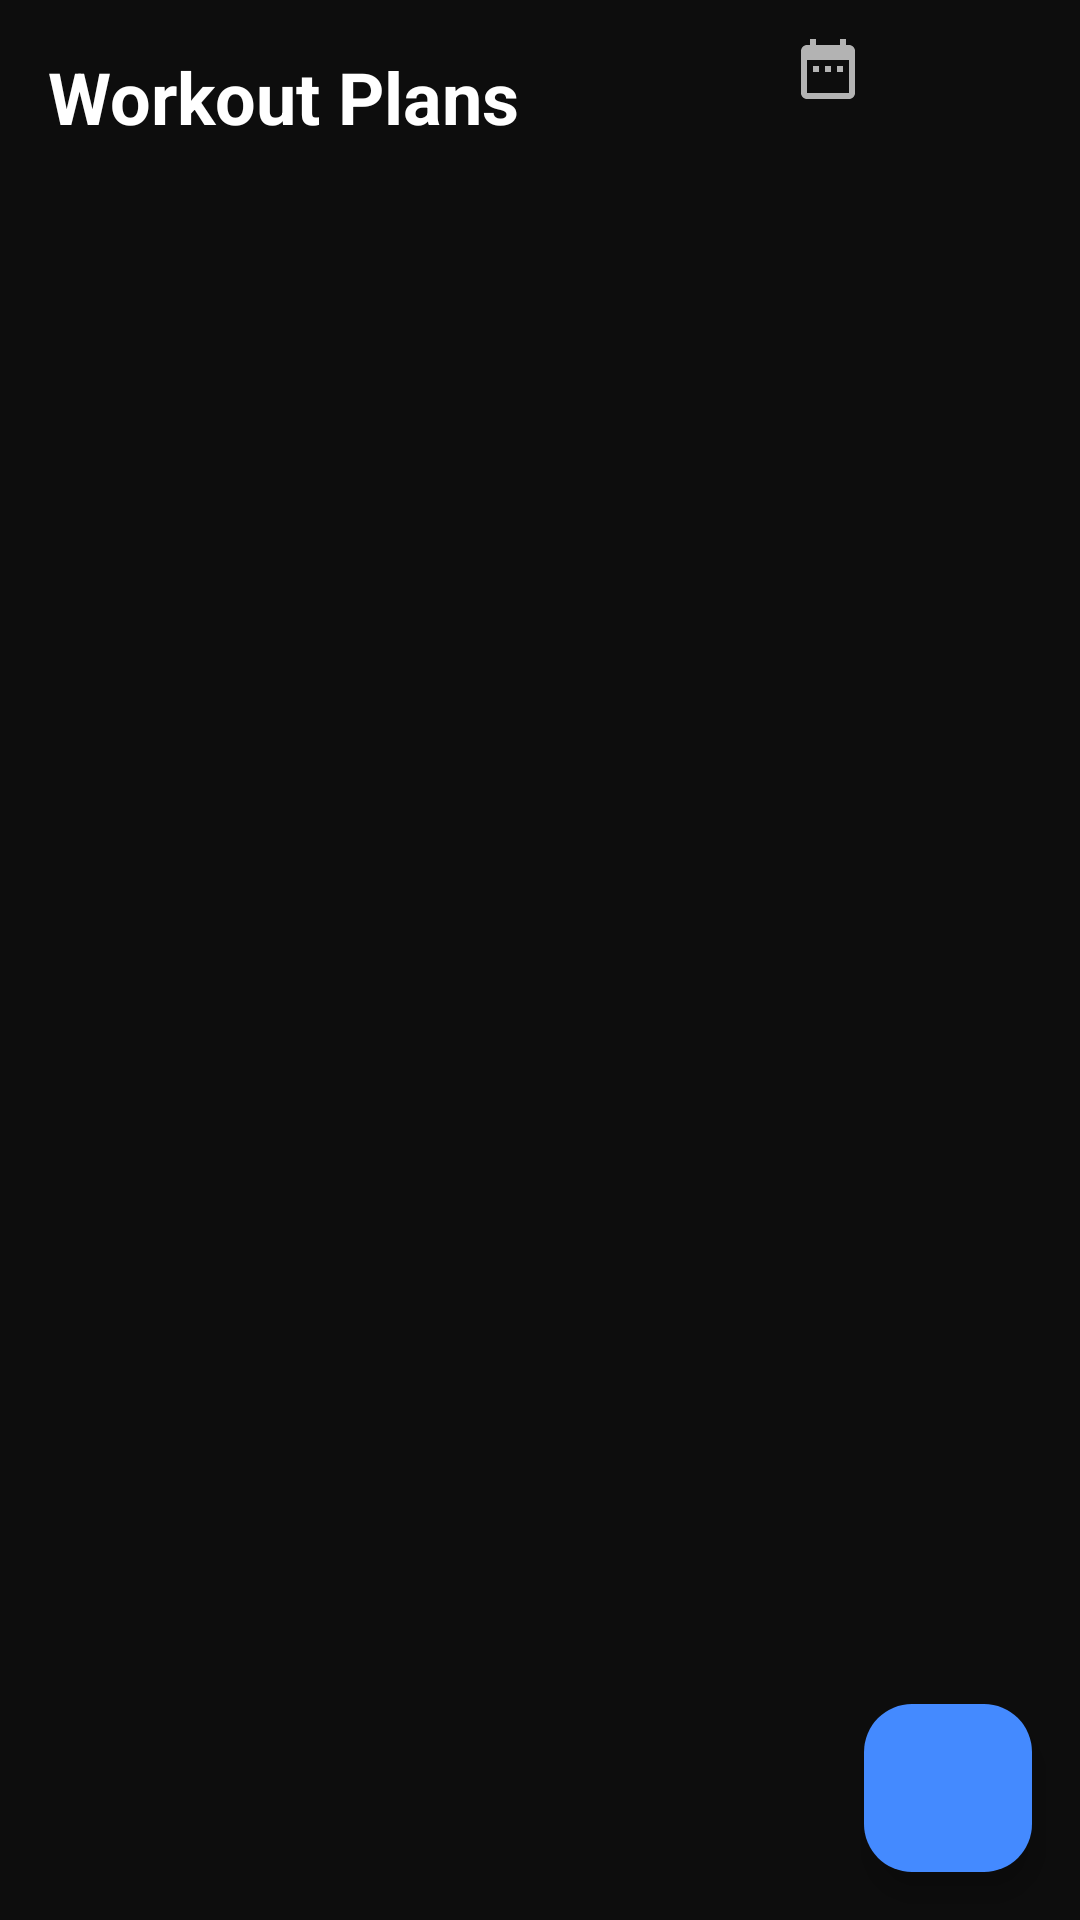

Screen size 1080*1920. Icon name, then its center in pixels as [x,y]:
Weekly Schedule: [828,69]
